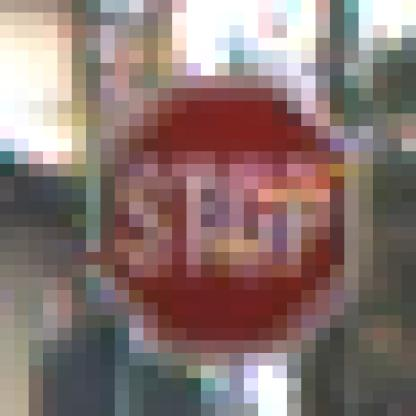stop: (84, 70, 383, 354)
